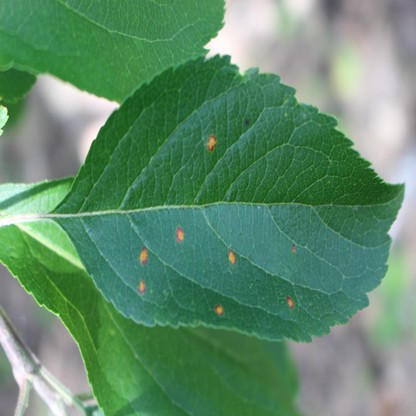rust: (207, 136, 217, 150), (139, 247, 147, 264), (176, 225, 183, 241), (285, 294, 292, 308), (228, 252, 236, 264), (214, 304, 223, 314), (139, 281, 145, 293), (291, 243, 297, 254)
